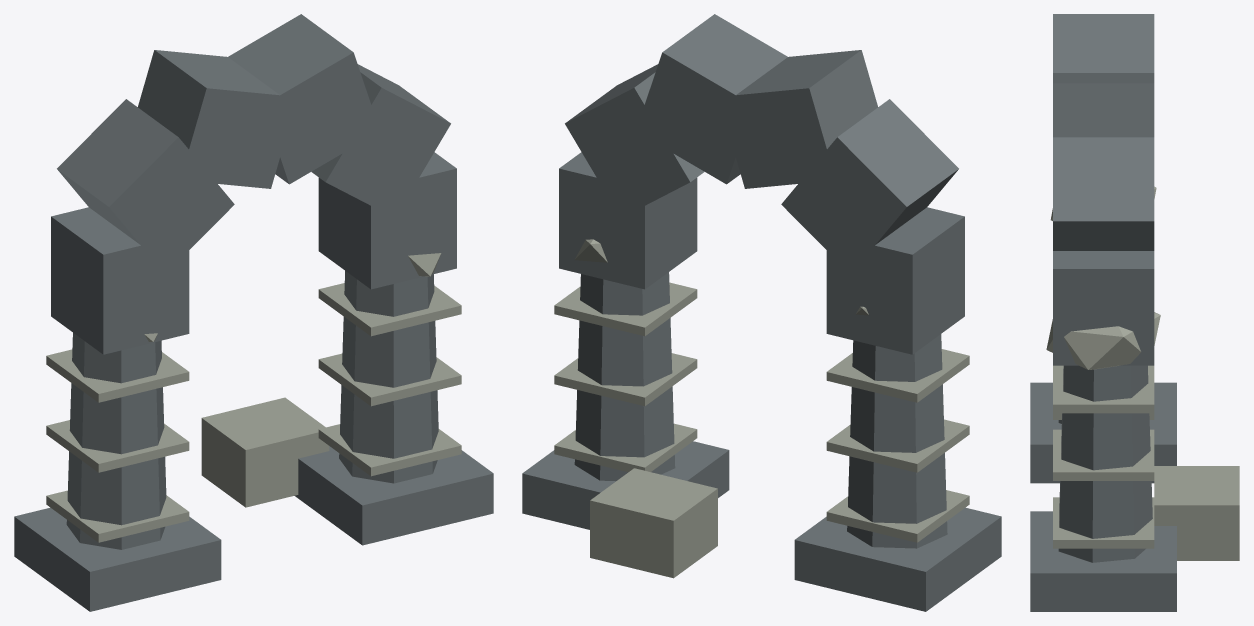
File: RuinArch_A.fbx
3 renders of one model, left to right at view 1: azimuth 30°, elevation 25°; view 2: azimuth 150°, elevation 25°; view 3: azimuth 270°, elevation 25°, orthographic. The views are drawn at different scales.
Visible parts, largest first — view 1: RuinArch_A; view 2: RuinArch_A; view 3: RuinArch_A.
Part boxes in pixels (bbox=[...]): RuinArch_A: bbox=[14, 14, 493, 611]; RuinArch_A: bbox=[522, 14, 1001, 611]; RuinArch_A: bbox=[1030, 14, 1239, 611].
Size of the model in its own units: 1.66 by 1.9 by 0.7706.
1 material, 1 textured.
